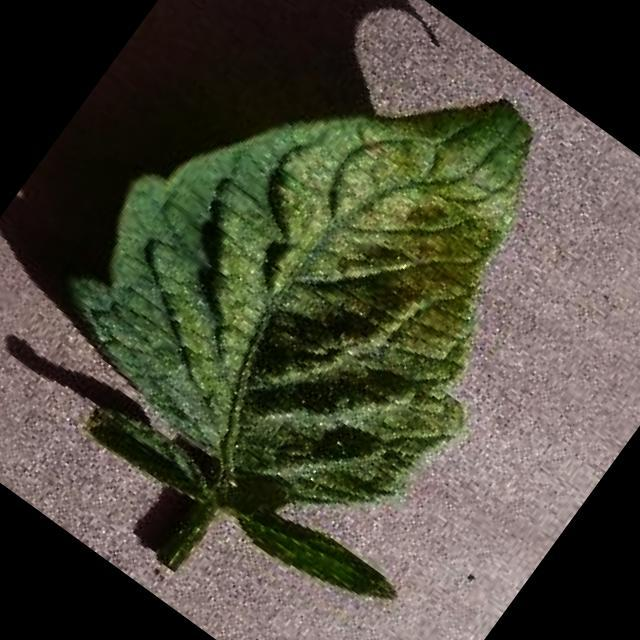Tomato spider mites leaf: (32, 0, 637, 563)
